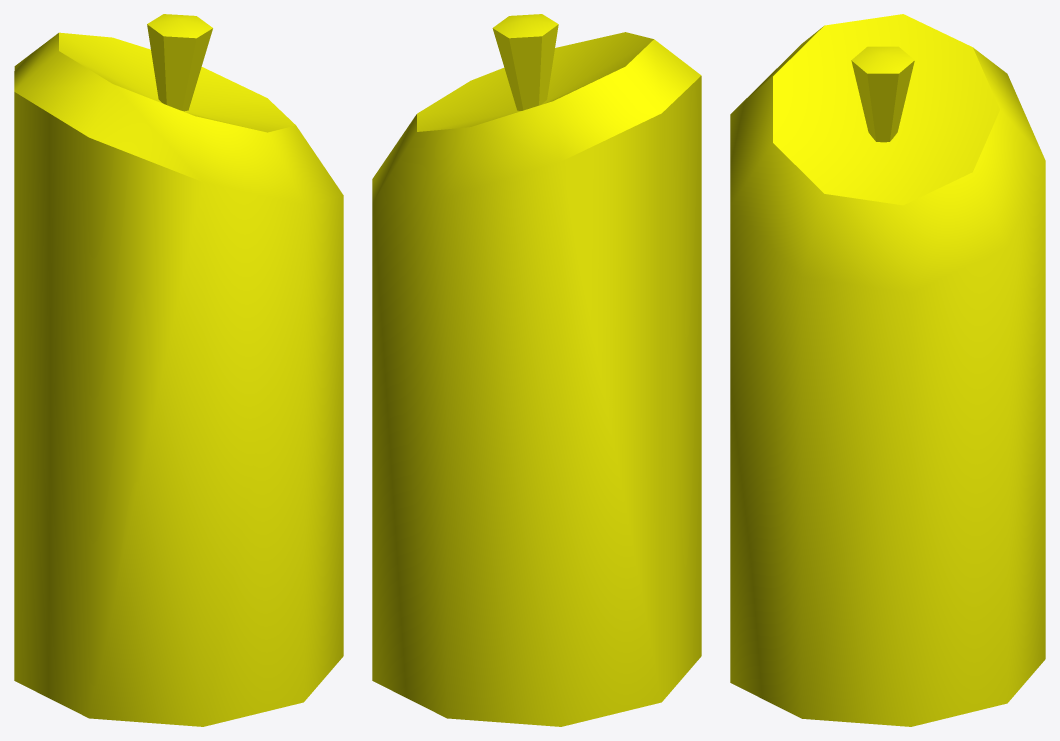
The model's file is kaykit-candle-melted.glb.
The picture shows the model from 3 angles, left to right: view 1: azimuth 30°, elevation 25°; view 2: azimuth 150°, elevation 25°; view 3: azimuth 270°, elevation 25°; orthographic projection. The views are drawn at different scales.
Visible parts, largest first — view 1: candle_melted; view 2: candle_melted; view 3: candle_melted.
Part boxes in pixels (x1,y1,x2,y2): candle_melted: [14, 14, 343, 726]; candle_melted: [372, 14, 701, 726]; candle_melted: [730, 14, 1045, 726].
Size of the model in its own units: 0.3344 by 0.7015 by 0.3293.
